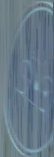bike lane: (4, 8, 51, 141)
